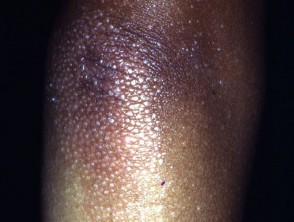Pityriasis Rubra Pilaris: (54, 21, 193, 172)
